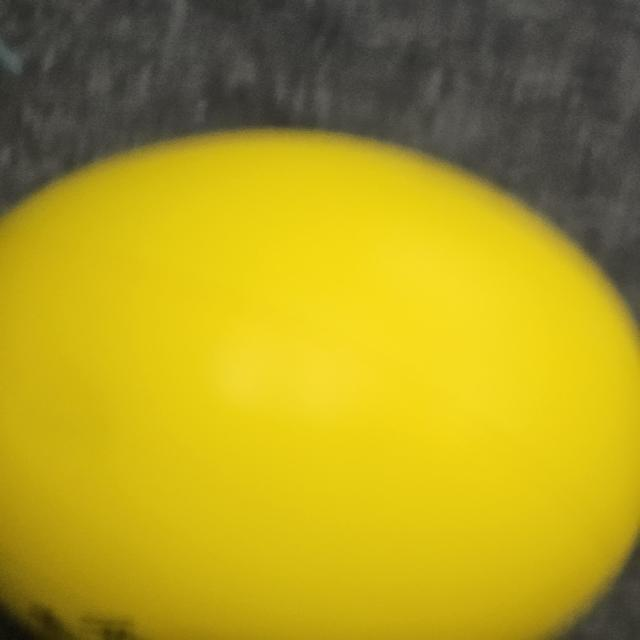Fuel: (2, 96, 640, 640)
